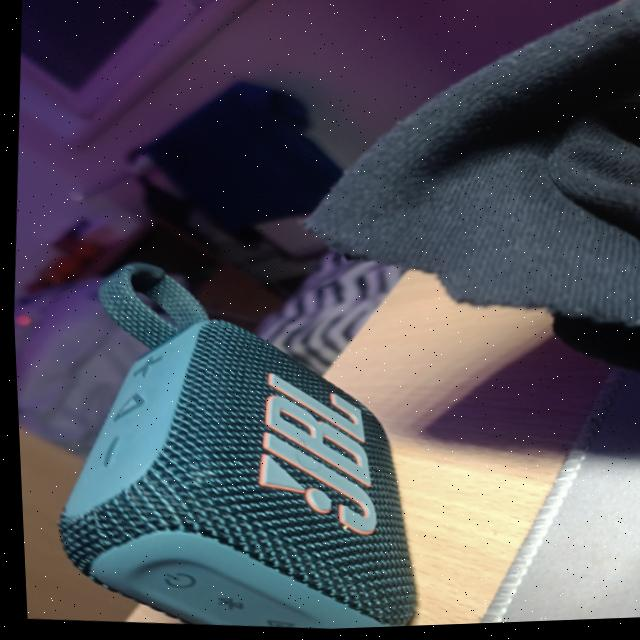column JBL: (35, 245, 438, 639)
